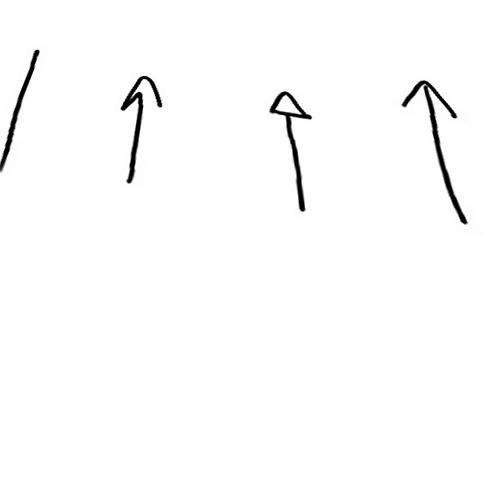arrow: (403, 78, 468, 226), (267, 90, 312, 211), (2, 46, 40, 177), (124, 73, 161, 178)
